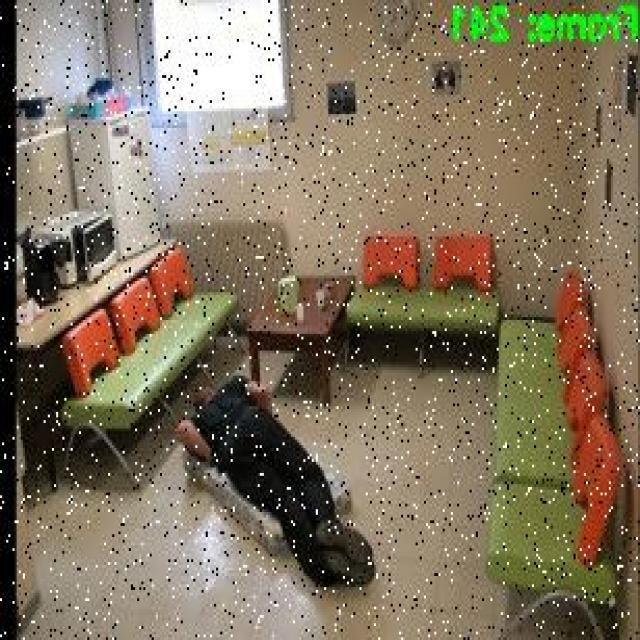fall: (174, 370, 374, 596)
